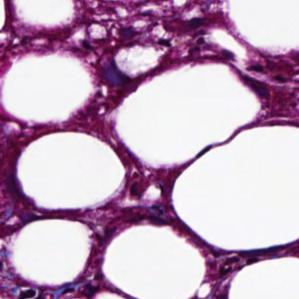inflammation: (99, 4, 157, 46)
